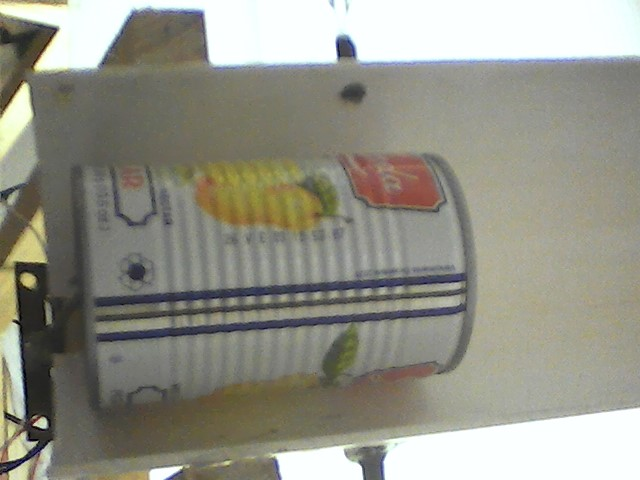lata: (64, 148, 488, 423)
